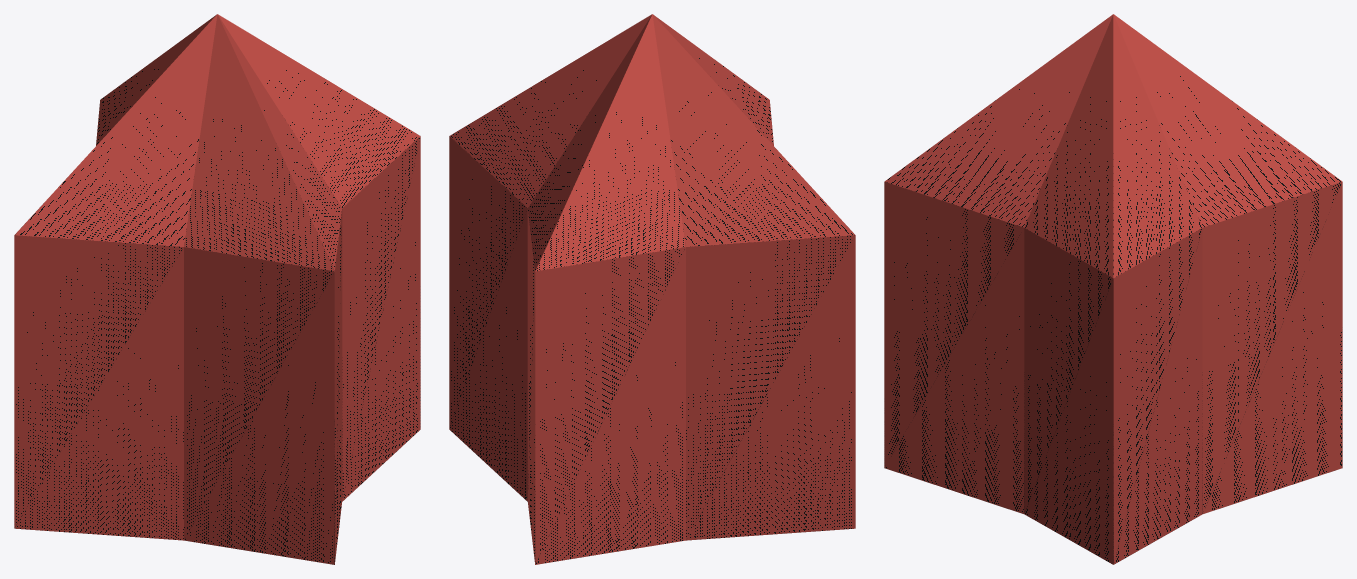
File: DL_Obj_Level5_AltarCrystalDiamond.fbx
3 views of the same model, side by side, from view 1: azimuth 30°, elevation 25°; view 2: azimuth 150°, elevation 25°; view 3: azimuth 270°, elevation 25° (orthographic). The views are drawn at different scales.
Parts seen in each view (by area): view 1: Level5_AltarCrystalDiamond; view 2: Level5_AltarCrystalDiamond; view 3: Level5_AltarCrystalDiamond.
Boxes of the visible parts, box(x1,y1,x2,y2) form: Level5_AltarCrystalDiamond: box(14, 14, 420, 564); Level5_AltarCrystalDiamond: box(449, 14, 855, 564); Level5_AltarCrystalDiamond: box(884, 14, 1342, 564).
Size of the model in its own units: 72.47 by 80.75 by 72.47.
